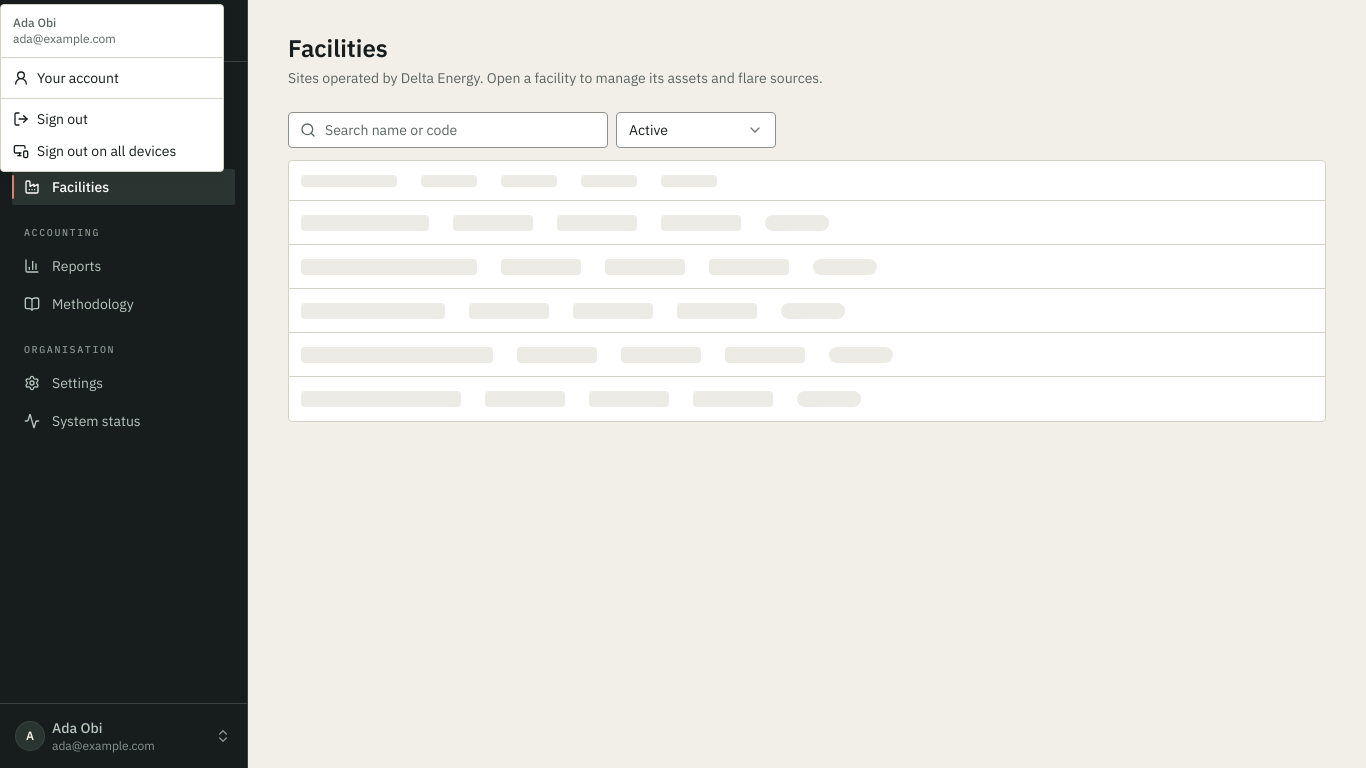
Test case: the account page › is reached from the account menu
Earlier steps of the test are not shown.
Click the menu item "Your account": (66, 78) [13,69,119,87]
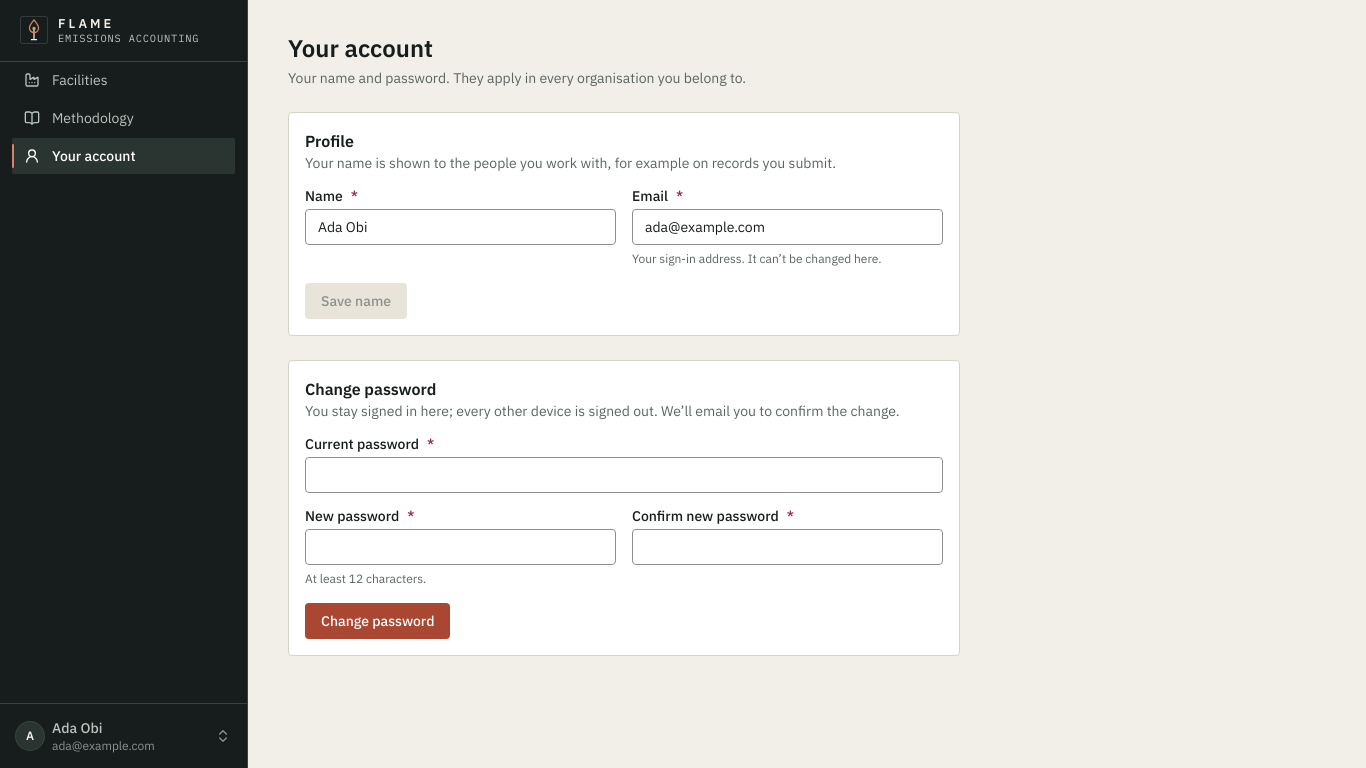
Now the heading "Your account" is shown, box [288,32,433,64]
